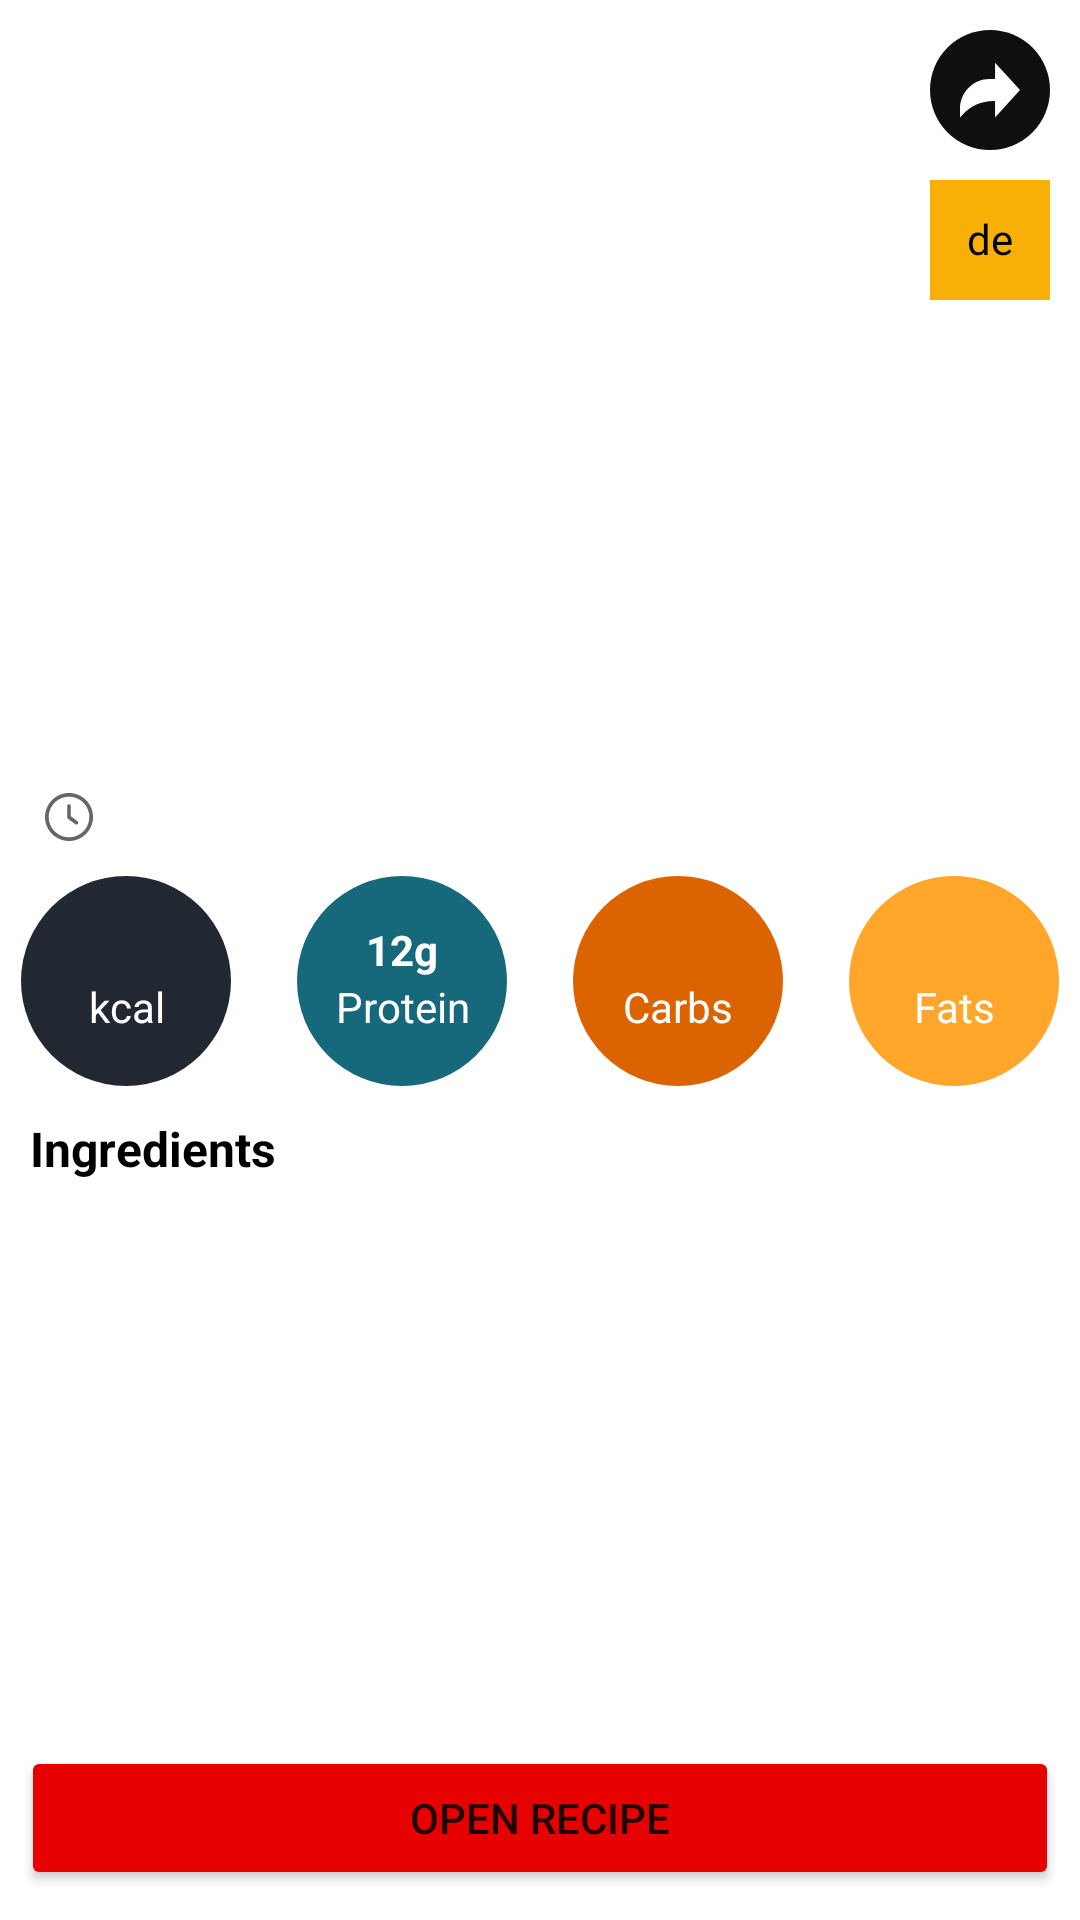

Icon click points for this 1080px×1920px phone screenshot, format point (x, y):
clock: point (69, 817)
share: point (990, 90)
